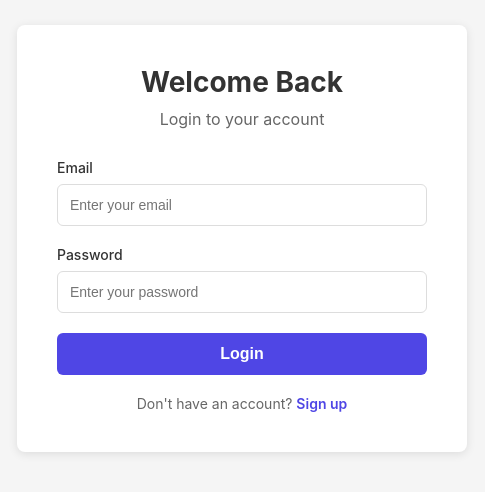
Test: Login Component › should validate required fields
Click the button "Login": (242, 354) [57,332,427,374]
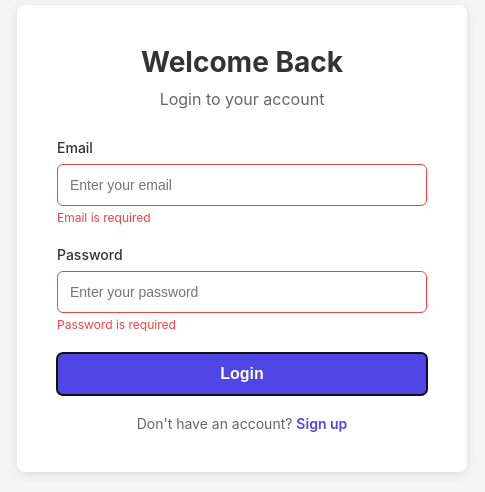
Check: the text "Email is required" is shown, box [57,210,151,224]
Check: the text "Password is required" is shown, box [57,316,176,332]
